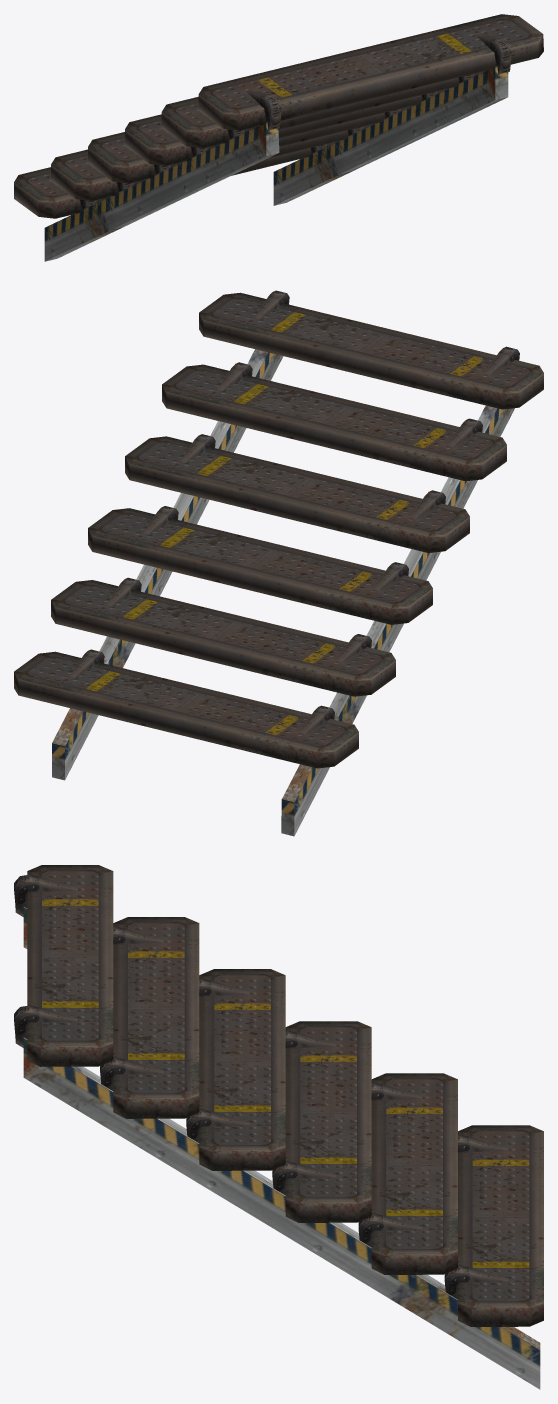
The model's file is Floor_E_2'5qmts_08.fbx.
3 views of the same model, one above another, from view 1: azimuth 30°, elevation 25°; view 2: azimuth 150°, elevation 25°; view 3: azimuth 270°, elevation 25° (orthographic). The views are drawn at different scales.
Visible parts, largest first — view 1: Floor_E_2'5qmts_08; view 2: Floor_E_2'5qmts_08; view 3: Floor_E_2'5qmts_08.
Part boxes in pixels (bbox=[...]): Floor_E_2'5qmts_08: bbox=[14, 14, 543, 261]; Floor_E_2'5qmts_08: bbox=[14, 290, 543, 836]; Floor_E_2'5qmts_08: bbox=[14, 865, 543, 1389].
Size of the model in its own units: 250 by 242 by 308.
Materials: 1 (1 with a texture image).
